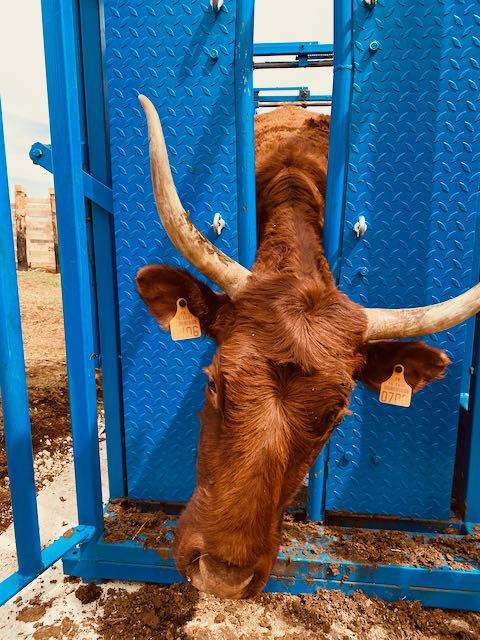muzzles: (175, 523, 271, 607)
